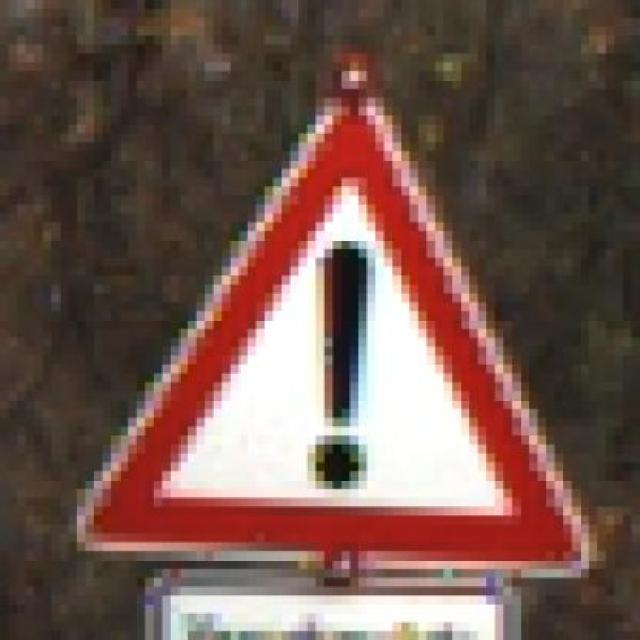Attention Please-: (59, 71, 598, 587)
